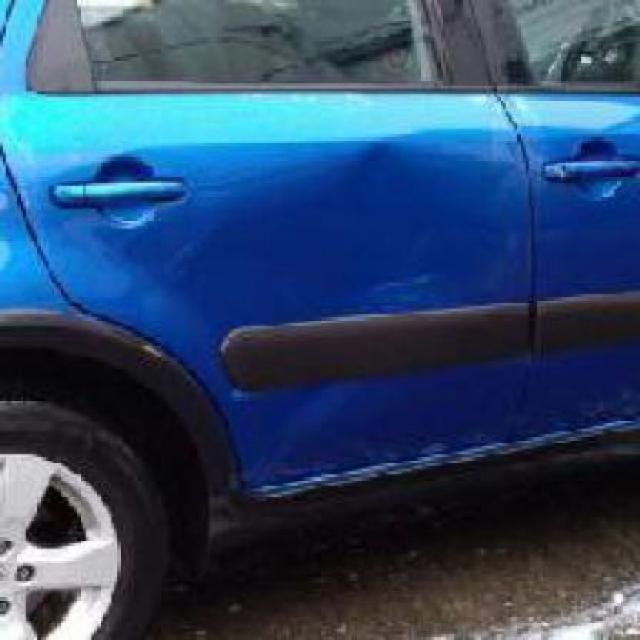dent-or-scratch: (282, 124, 482, 316)
